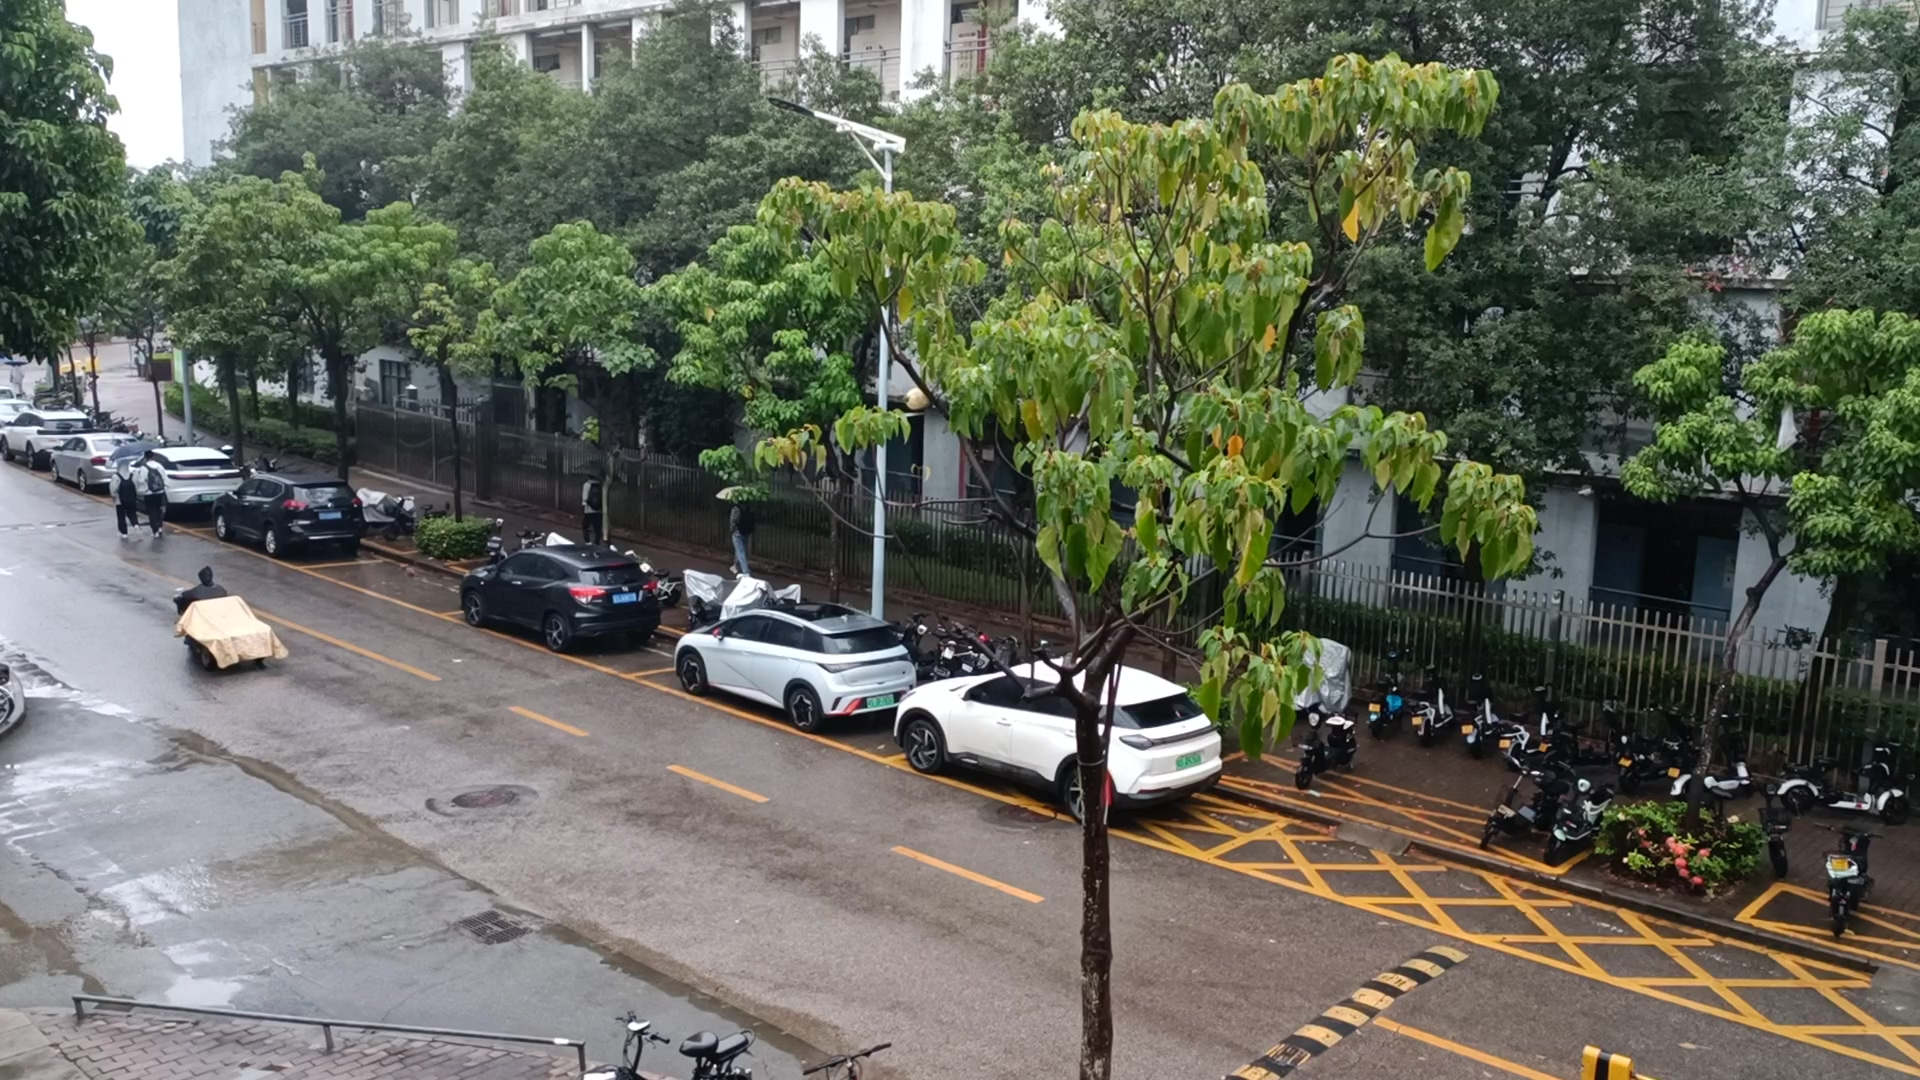space-empty: (301, 555, 512, 618)
space-occupied: (630, 651, 967, 764), (436, 589, 723, 678), (183, 520, 385, 574), (96, 483, 255, 535), (36, 460, 167, 505)
